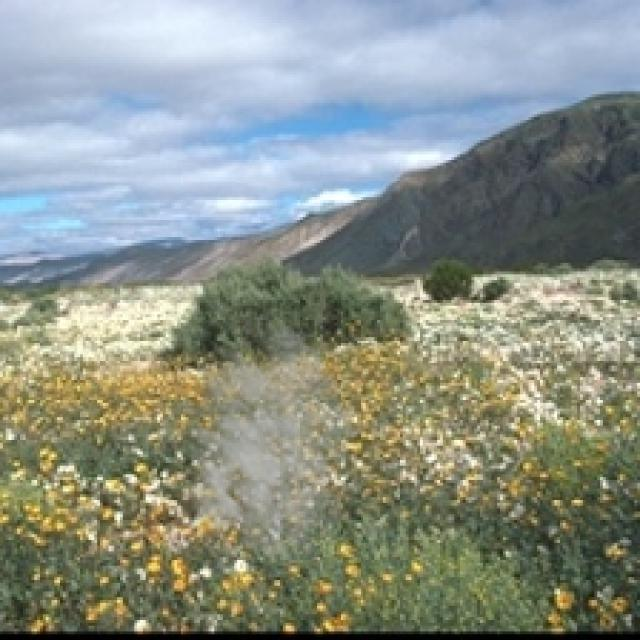smoke: (151, 309, 363, 577)
